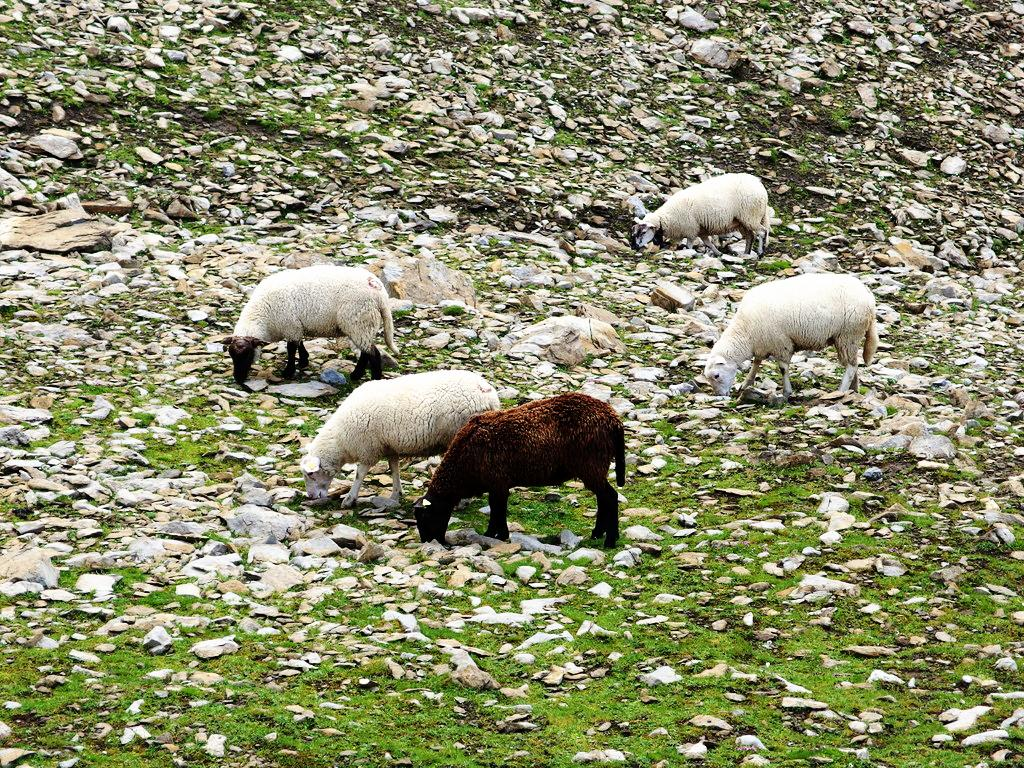Sheep: (408, 392, 633, 552), (292, 371, 506, 511), (699, 272, 882, 408), (218, 264, 400, 386), (624, 167, 769, 259)
